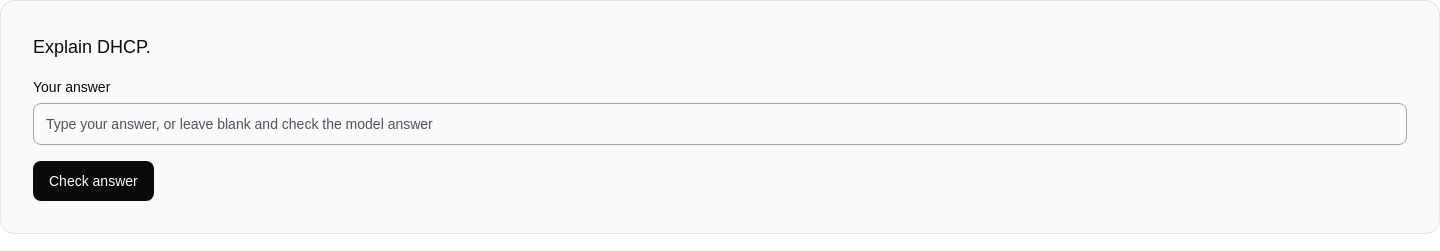
it: QuestionCard: short answer (self-graded) › shows the model answer first, with no verdict yet
Type "my own words" into the field labelled "Your answer" at {"x": 720, "y": 124}, box [33,103,1407,145]
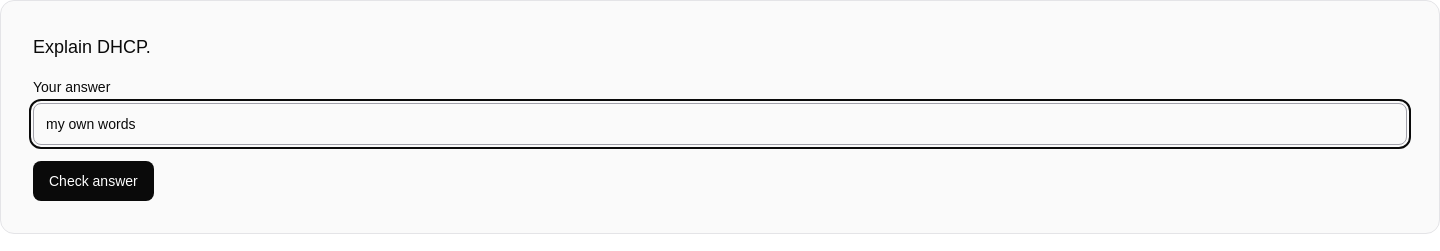
Click the button "Check answer" at {"x": 93, "y": 181}, box [33,161,154,201]
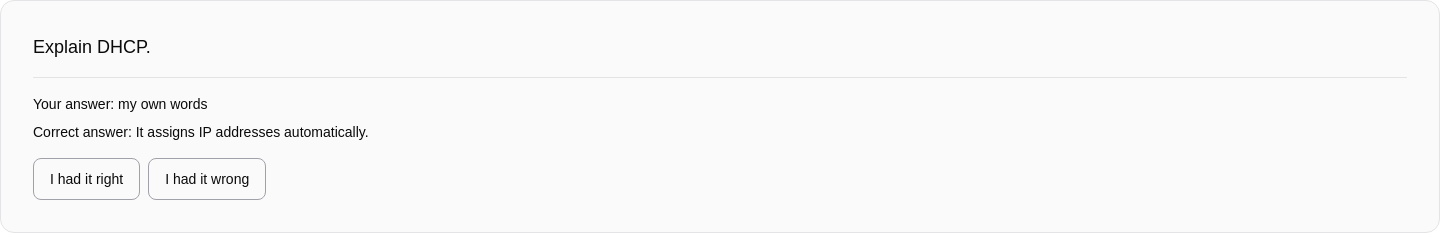
Result: the text "Correct answer: It assigns IP addresses automatically." is shown at [33,124,369,140]
Result: the text "Your answer: my own words" is shown at [33,96,208,112]
